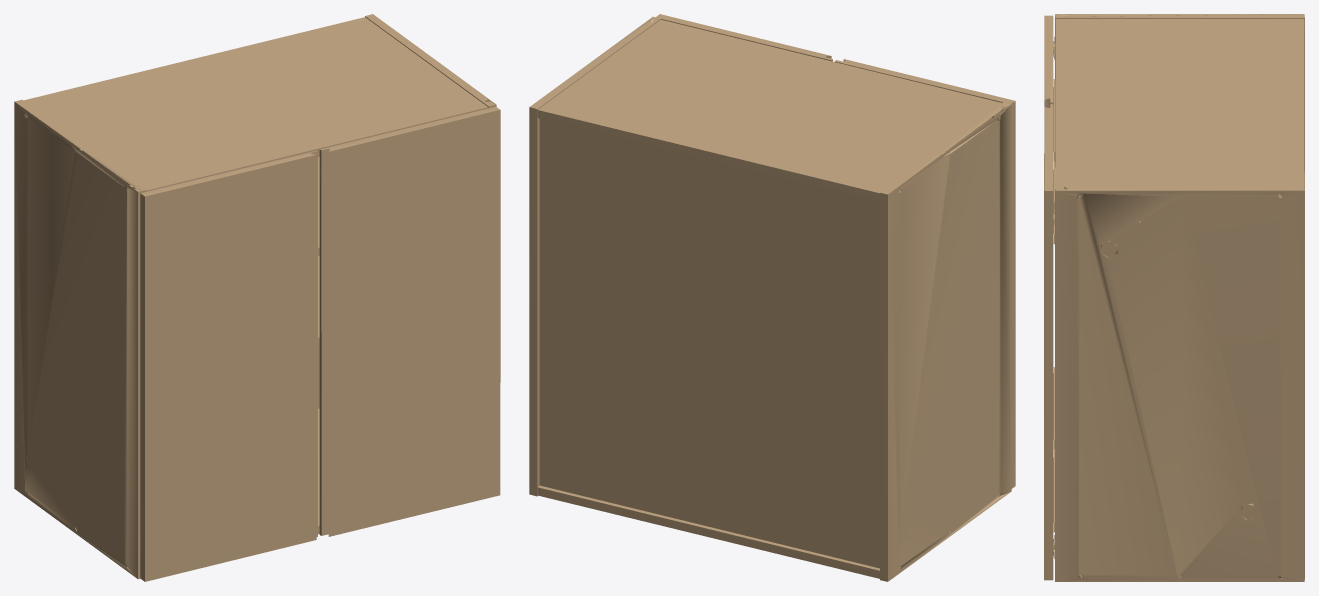
Rendered from town-ivar.glb.
The picture shows the model from 3 angles, left to right: view 1: azimuth 30°, elevation 25°; view 2: azimuth 150°, elevation 25°; view 3: azimuth 270°, elevation 25°; orthographic projection.
Parts seen in each view (by area): view 1: 70033766-IVAR001; view 2: 70033766-IVAR001; view 3: 70033766-IVAR001.
Part boxes in pixels (box(x1,y1,x2,y2)): 70033766-IVAR001: box(14, 14, 500, 581); 70033766-IVAR001: box(529, 14, 1015, 581); 70033766-IVAR001: box(1044, 14, 1304, 581).
Size of the model in its own units: 0.8069 by 0.8309 by 0.4987.
